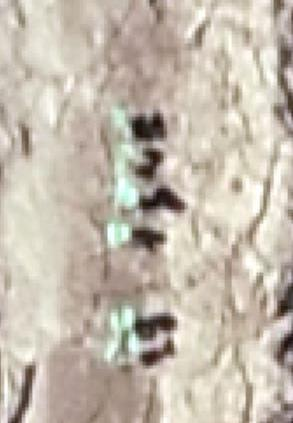cotton: (110, 337, 138, 363), (114, 179, 136, 206), (108, 223, 132, 244), (110, 309, 133, 328), (111, 107, 129, 130)
